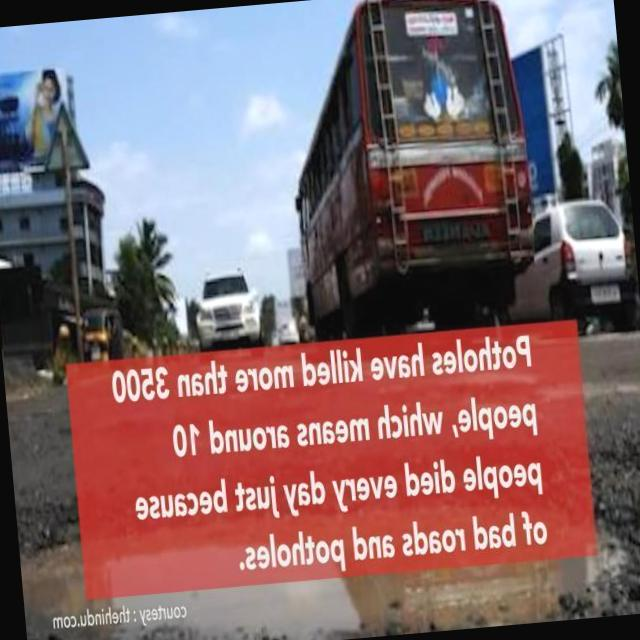Pathole: (19, 483, 640, 640)
